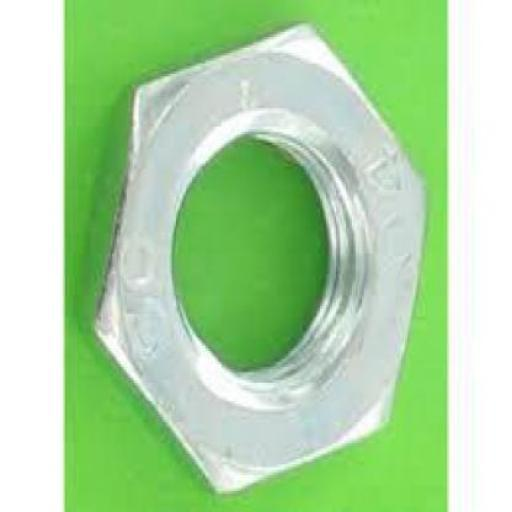Nut: (95, 23, 426, 492)
